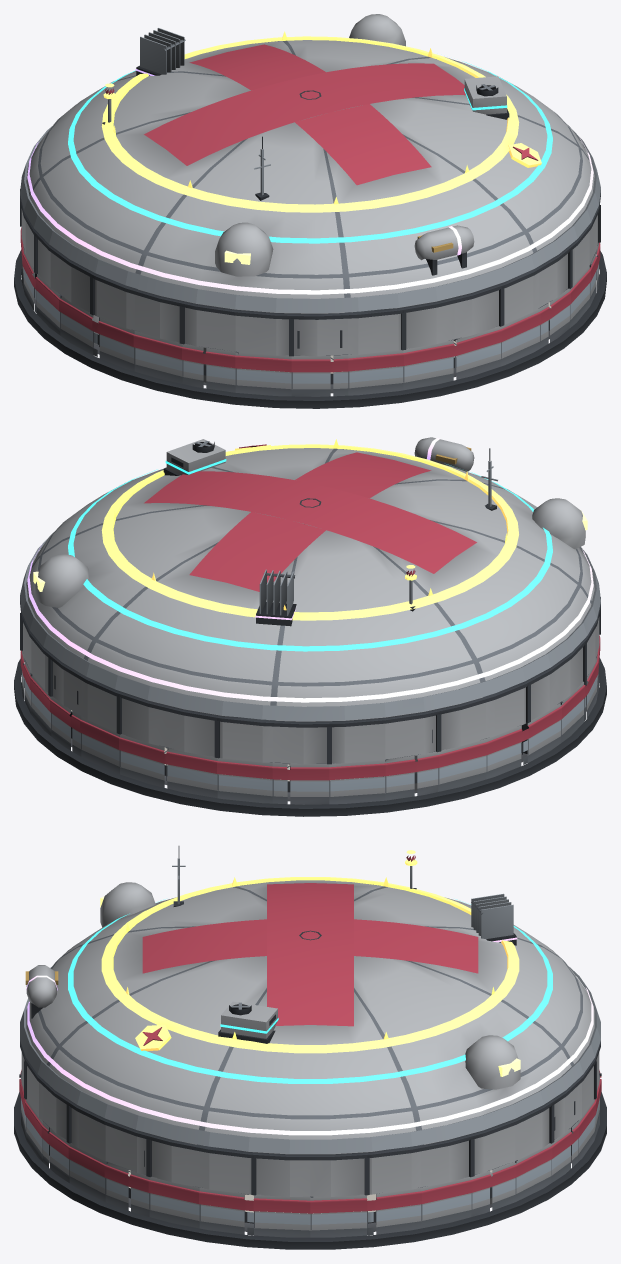
The model's file is medical_l_far.glb.
3 renders of one model, top to bottom at view 1: azimuth 30°, elevation 25°; view 2: azimuth 150°, elevation 25°; view 3: azimuth 270°, elevation 25°, orthographic.
Visible parts, largest first — view 1: Roof, Base, L2, L5, L4, L3; view 2: Roof, Base, L2, L5, L4, L3; view 3: Roof, Base, L2, L5, L4, L3.
Part boxes in pixels (x1=…): Roof: x1=20, y1=14, x2=600, y2=356; Base: x1=14, y1=227, x2=606, y2=408; L2: x1=20, y1=125, x2=600, y2=313; L5: x1=101, y1=31, x2=541, y2=212; L4: x1=27, y1=28, x2=593, y2=294; L3: x1=68, y1=61, x2=552, y2=243; Roof: x1=20, y1=448, x2=600, y2=764; Base: x1=14, y1=635, x2=606, y2=816; L2: x1=20, y1=448, x2=600, y2=721; L5: x1=101, y1=439, x2=518, y2=620; L4: x1=27, y1=437, x2=593, y2=702; L3: x1=68, y1=439, x2=552, y2=651; Roof: x1=20, y1=880, x2=600, y2=1196; Base: x1=14, y1=1070, x2=606, y2=1249; L2: x1=20, y1=846, x2=600, y2=1153; L5: x1=101, y1=850, x2=519, y2=1053; L4: x1=25, y1=893, x2=593, y2=1135; L3: x1=68, y1=899, x2=552, y2=1083.
Bounding box in the file's own units: 17.16 × 7.13 × 17.16.
